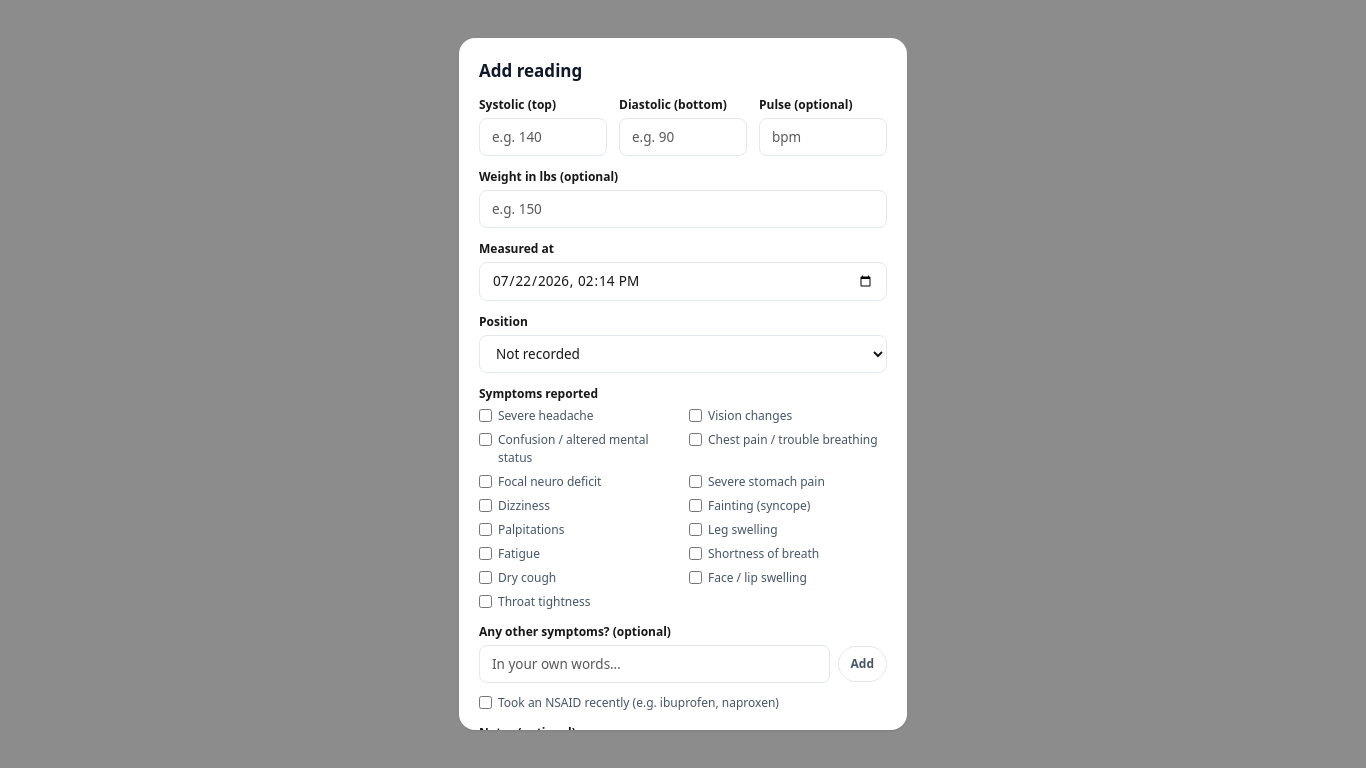
Test: AddEditReadingModal — add mode + session flow › submits the payload, refreshes the list, then offers the session follow-up
Type "140" into the number field with test id "admin-reading-systolic" at (543, 137), box [479,118,607,156]
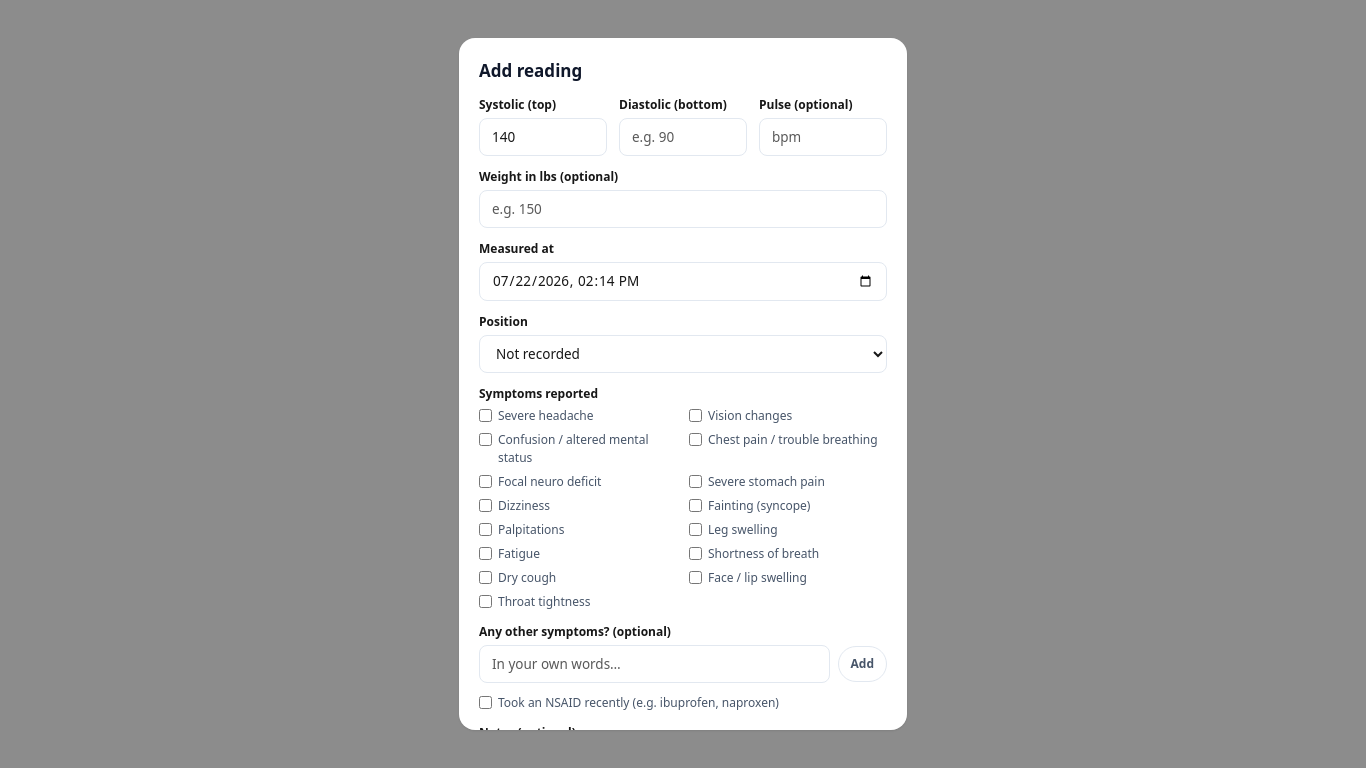
Type "90" into the number field with test id "admin-reading-diastolic" at (683, 137), box [619,118,747,156]
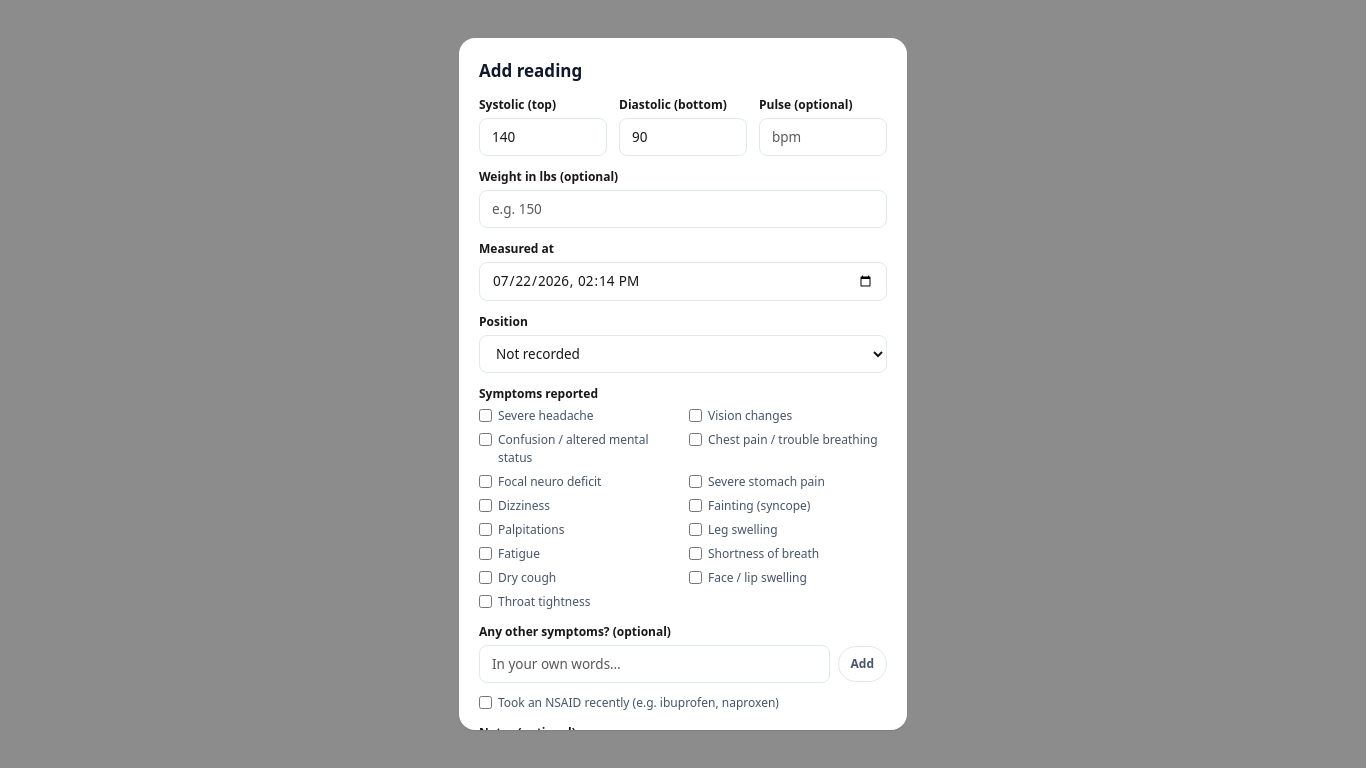
Type "76" into the number field with test id "admin-reading-pulse" at (823, 137), box [759,118,887,156]
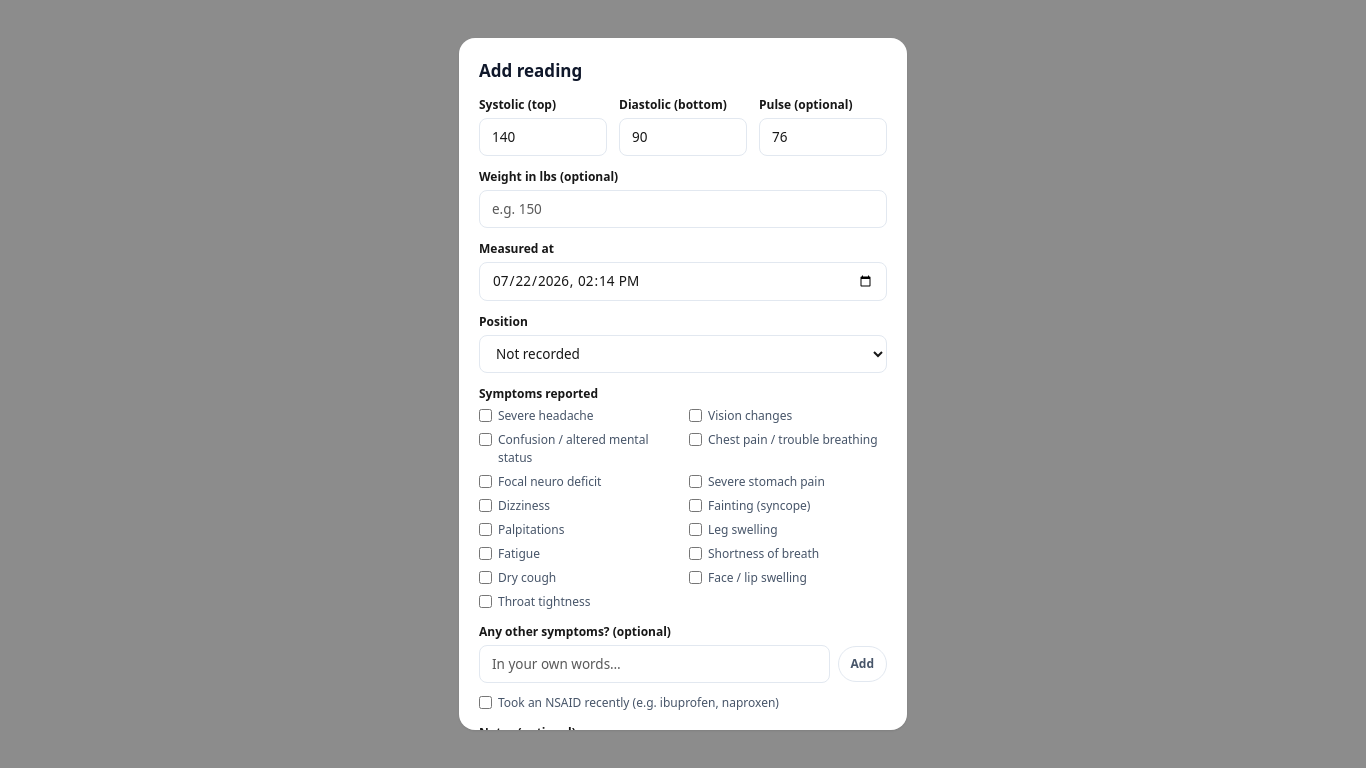
Click the checkbox with test id "admin-reading-symptom-dizziness" at (486, 505), box [479,499,492,512]
(page scrolled)
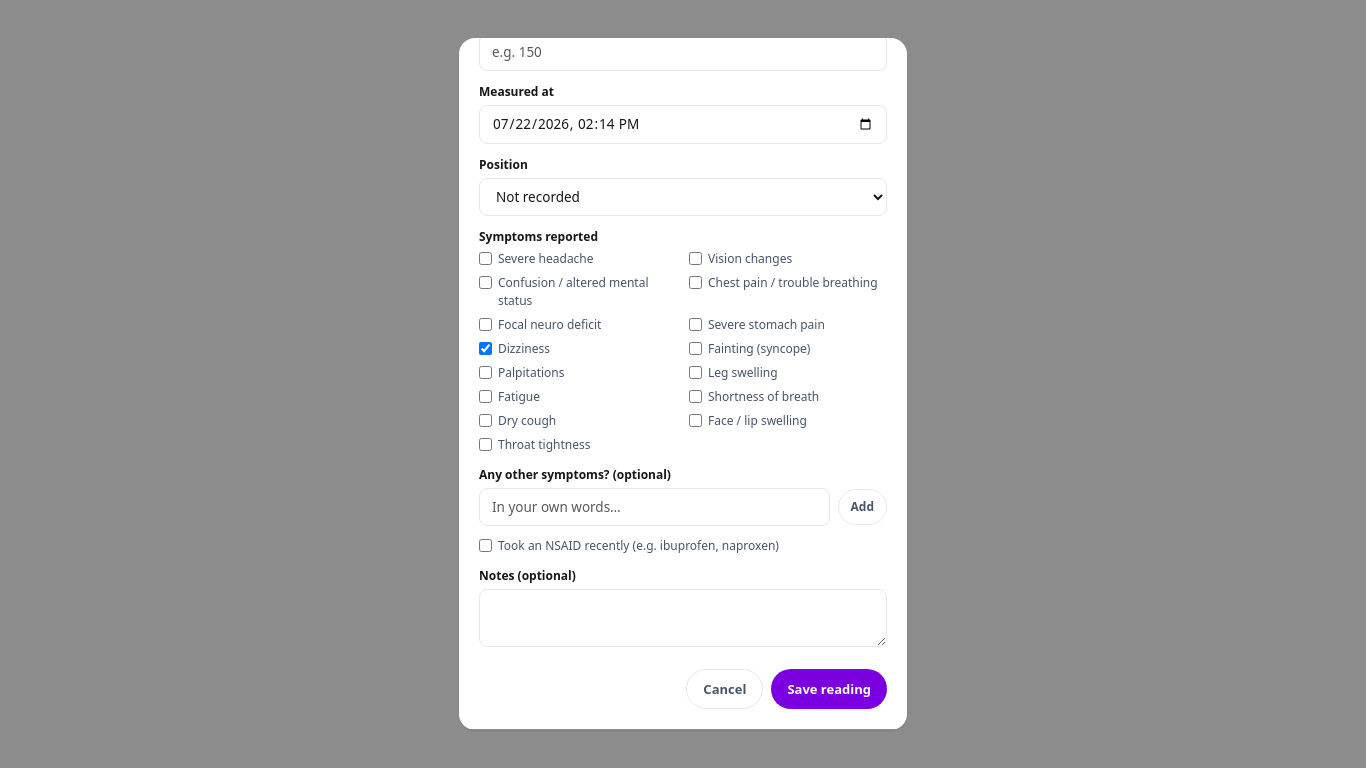
Click the button with test id "admin-reading-save" at (829, 689), box [771,669,887,709]
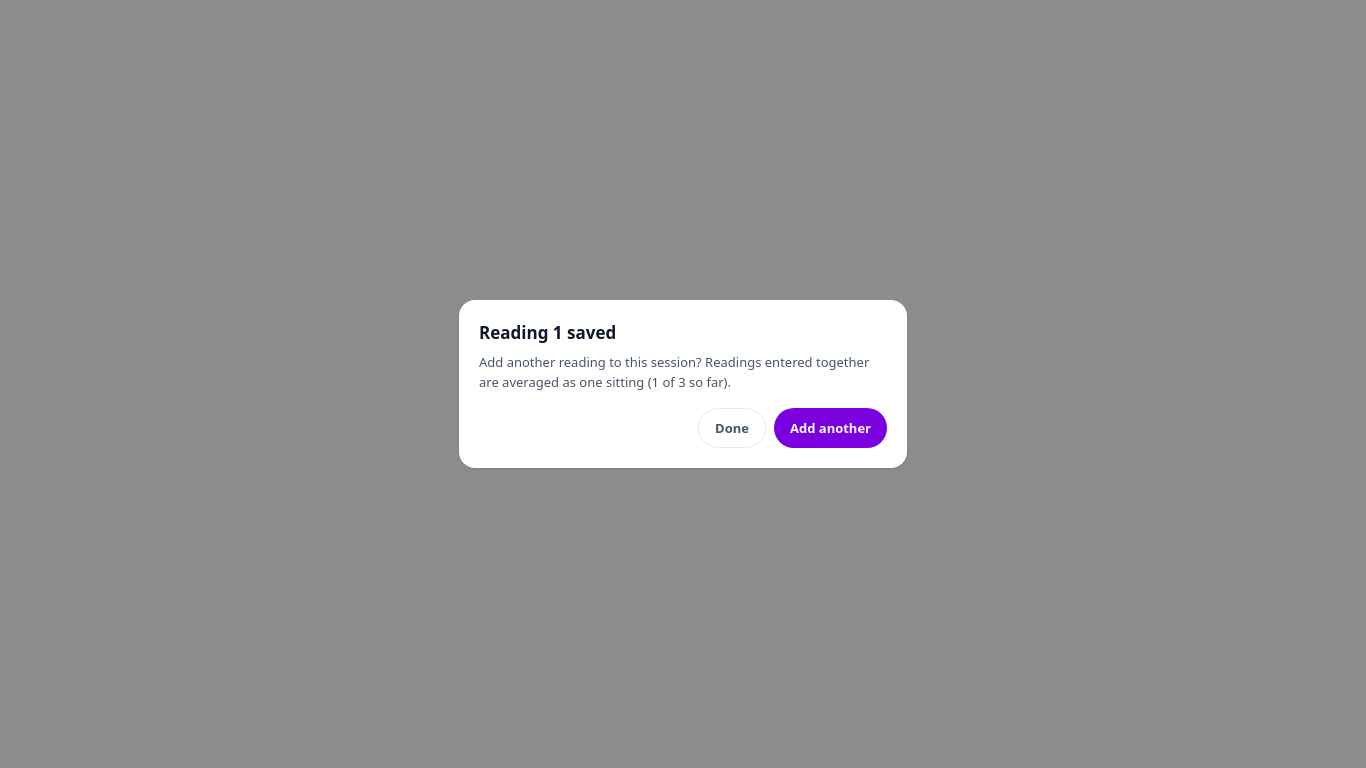
Check: the element with test id "admin-reading-followup" shows "Reading 1 saved", box [479,320,887,448]
